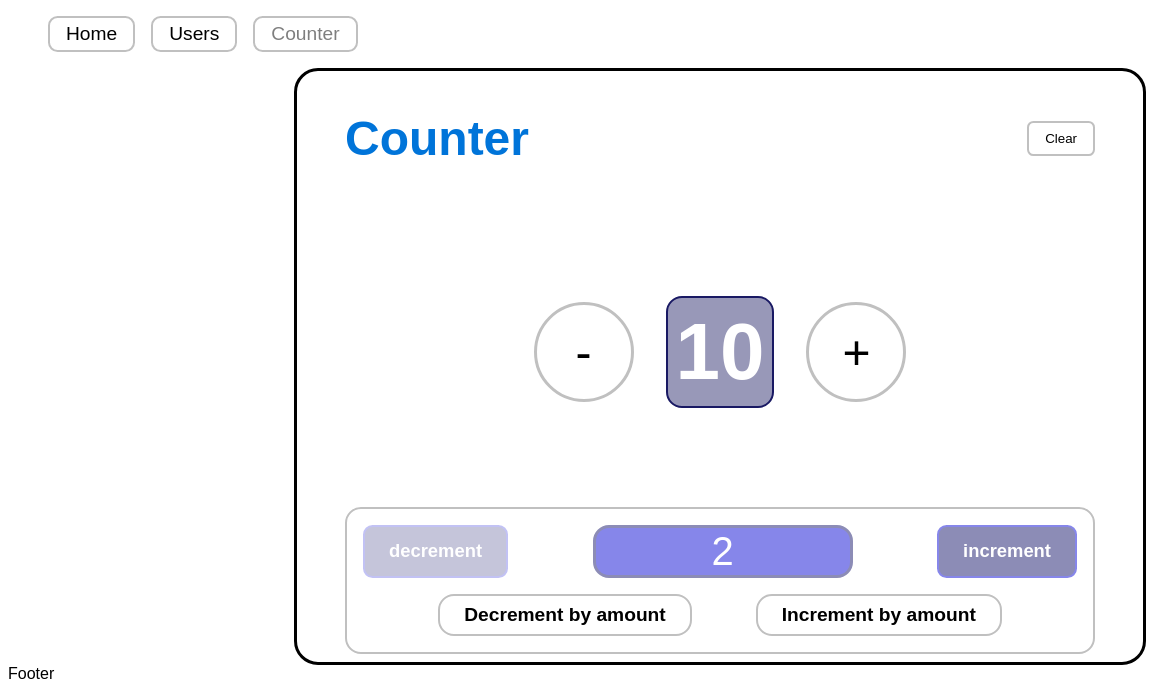
it: Test Notification › Test notification elements › Test content field
The width and height of the screenshot is (1163, 696).
Click the heading with test id "global-counter-value" at (720, 352), box [666,296,774,408]
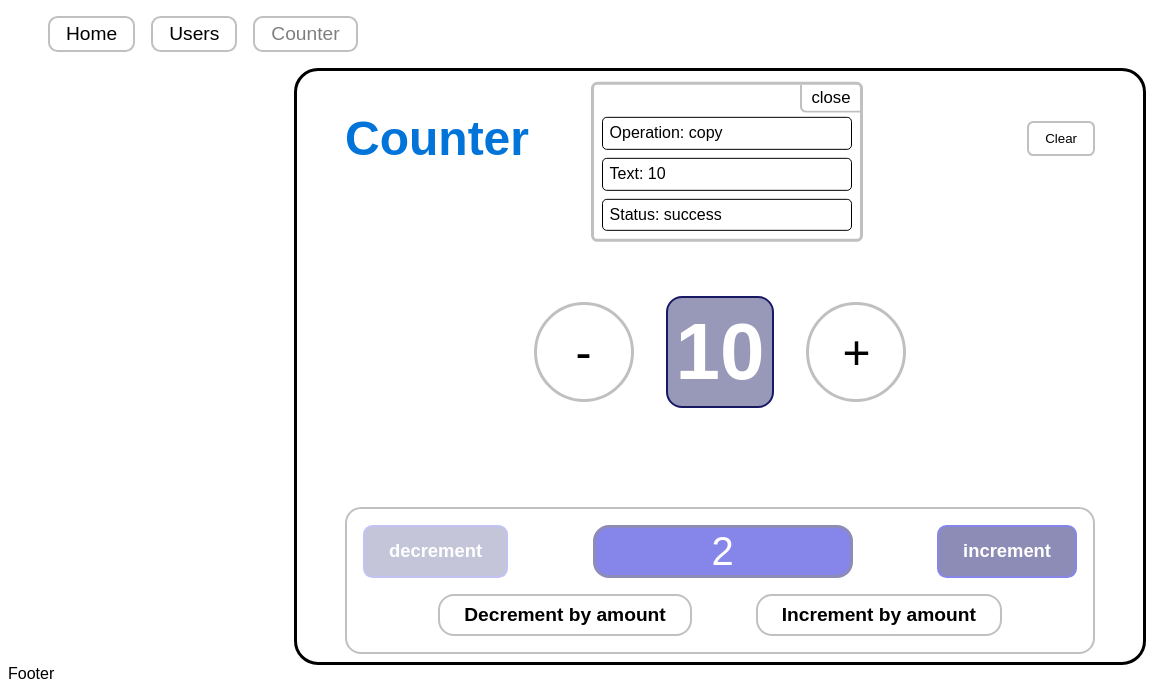
Expected: the number of elements with test id "notification-box__value" is 3, [602,117,852,150]; [602,158,852,190]; [602,198,852,231]
Expected: the text with test id "notification-box__value" reads "Text: 10", [602,158,852,190]
